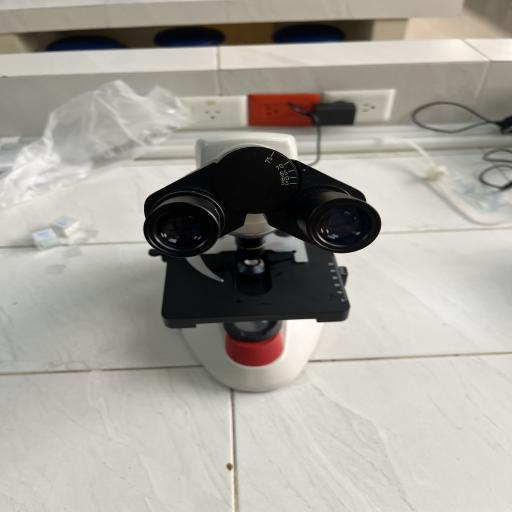Microscopio_Binocular: (118, 124, 406, 398)
